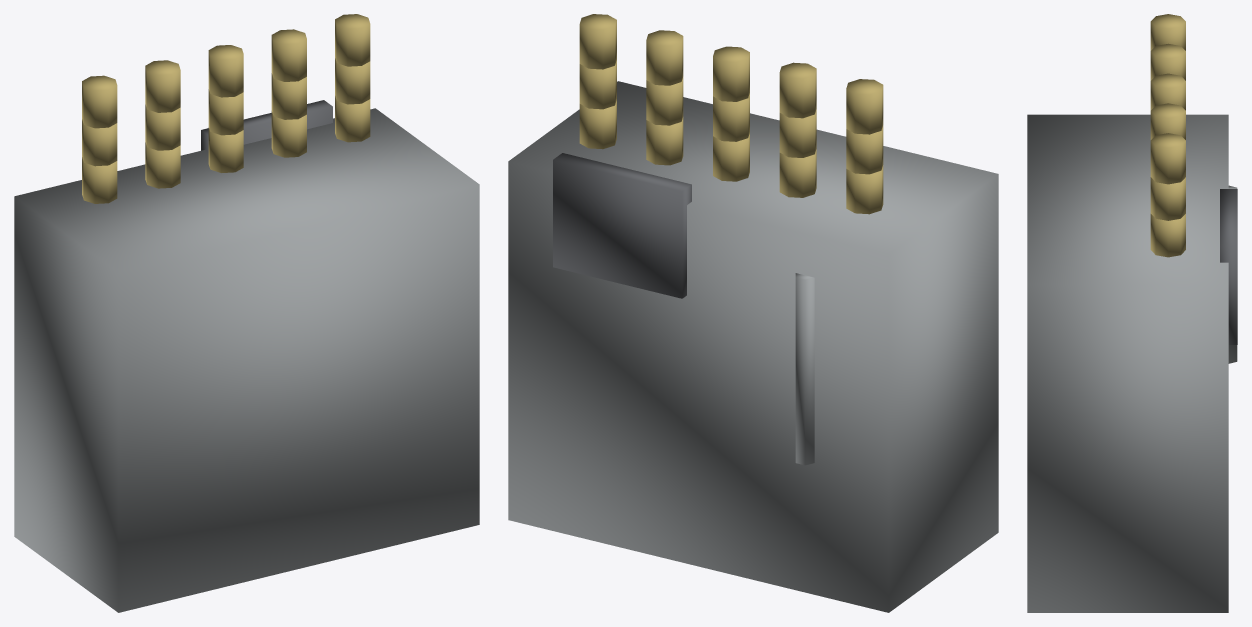
Rendered from votive_candle_stand__service.glb.
3 views of the same model, side by side, from view 1: azimuth 30°, elevation 25°; view 2: azimuth 150°, elevation 25°; view 3: azimuth 270°, elevation 25° (orthographic). The views are drawn at different scales.
Visible parts, largest first — view 1: world; view 2: world; view 3: world.
Part boxes in pixels (x1=…): world: x1=14, y1=14, x2=479, y2=612; world: x1=508, y1=14, x2=998, y2=612; world: x1=1027, y1=14, x2=1237, y2=612.
Bounding box in the file's own units: 0.8 × 0.98 × 0.4175.
